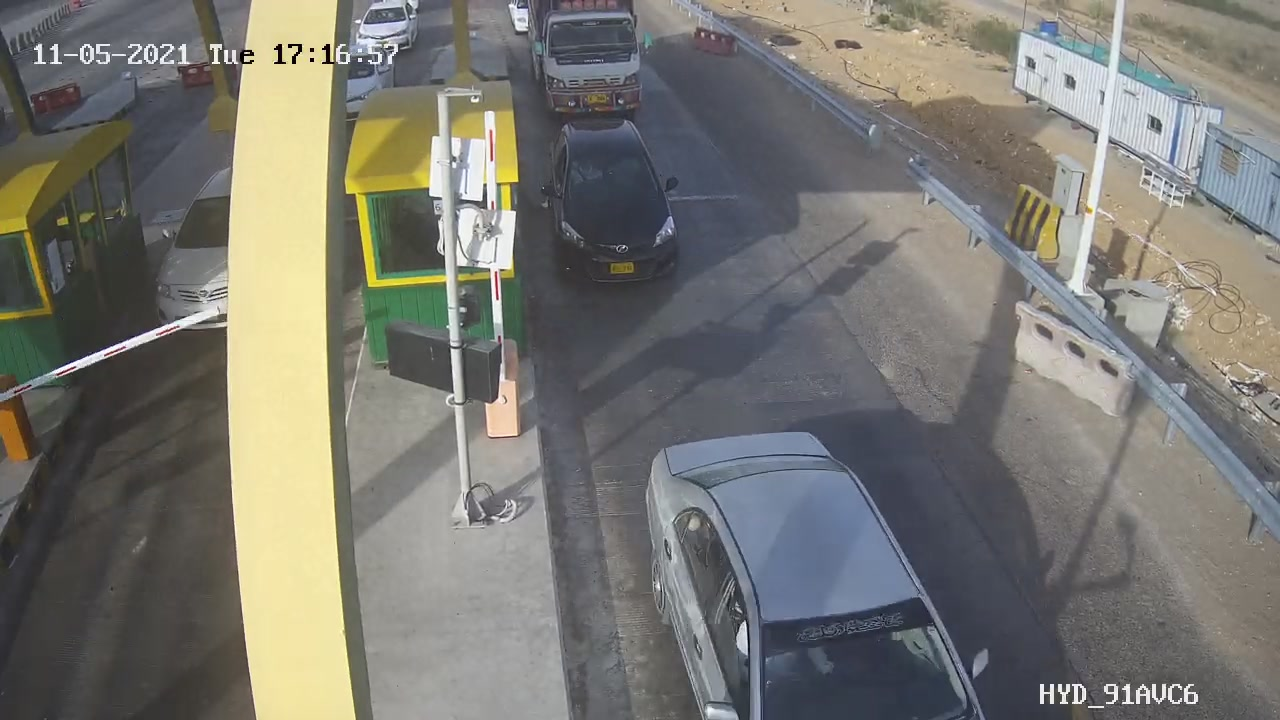F1: (526, 98, 699, 299)
